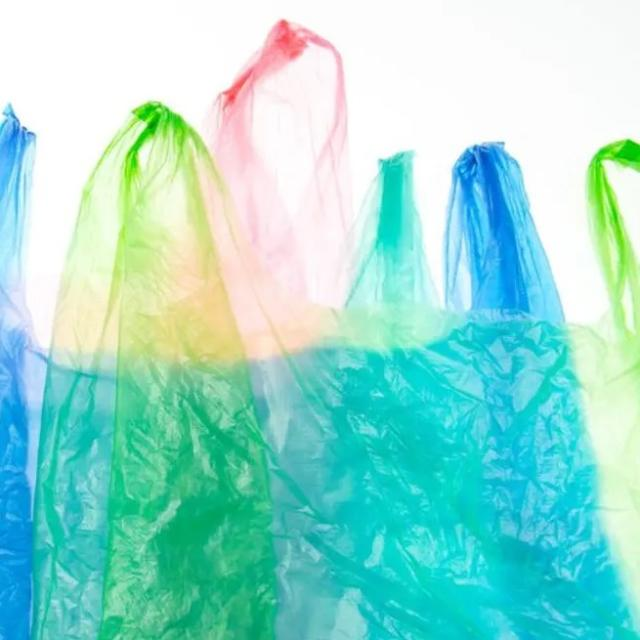Single-layer Plastic: (30, 102, 640, 640), (210, 20, 352, 306), (0, 106, 45, 639), (445, 142, 564, 324)
